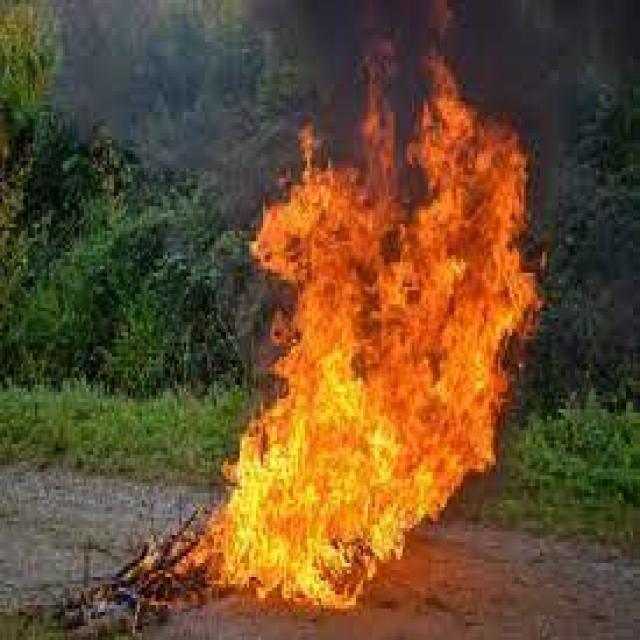Fire: (157, 55, 538, 612)
Smoke: (57, 0, 639, 121)
